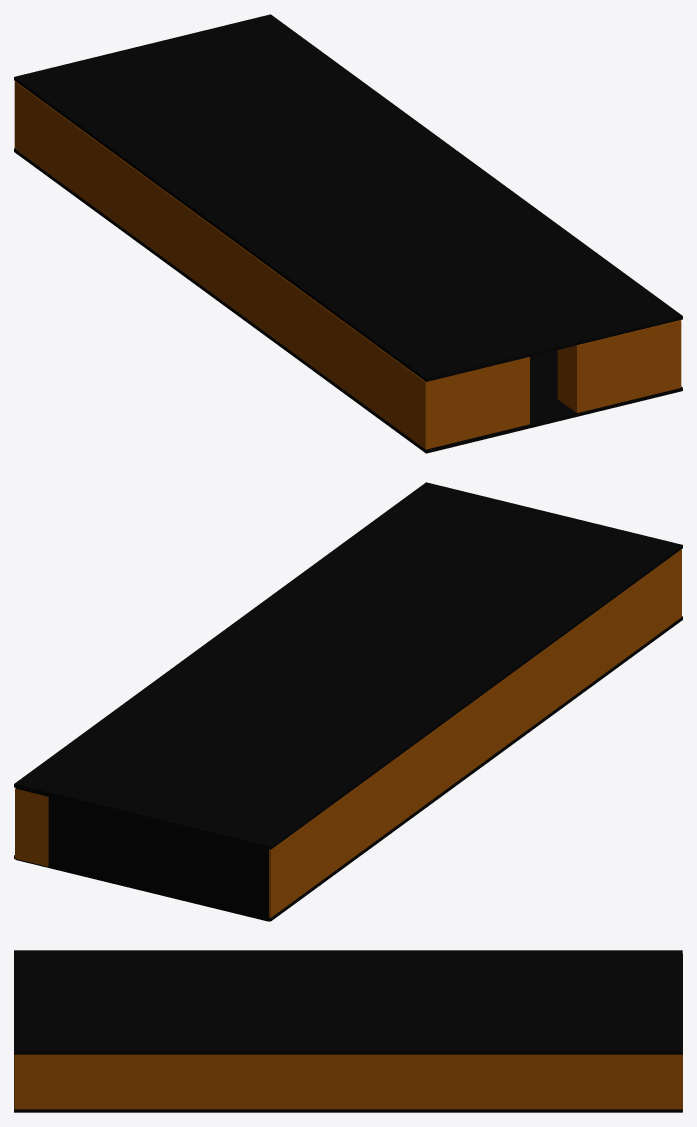
The model's file is Corredor FBX.fbx.
The picture shows the model from 3 angles, top to bottom: view 1: azimuth 30°, elevation 25°; view 2: azimuth 150°, elevation 25°; view 3: azimuth 270°, elevation 25°; orthographic projection. The views are drawn at different scales.
Parts seen in each view (by area): view 1: Teto, Parede, Parede 2, Teto.002; view 2: Teto, Parede, Teto.003, Parede 2, Teto.002; view 3: Teto, Parede 2, Teto.002.
Boxes of the visible parts, x1,y1,x2,y2 form: Teto: [14, 14, 682, 381]; Parede: [14, 81, 529, 449]; Parede 2: [557, 320, 681, 412]; Teto.002: [14, 148, 682, 453]; Teto: [14, 482, 682, 849]; Parede: [269, 549, 681, 917]; Teto.003: [15, 787, 268, 921]; Parede 2: [15, 788, 48, 866]; Teto.002: [14, 616, 682, 921]; Teto: [14, 950, 682, 1054]; Parede 2: [14, 1054, 682, 1111]; Teto.002: [14, 1055, 682, 1112].
Size of the model in its own units: 1537 by 431 by 4276.
